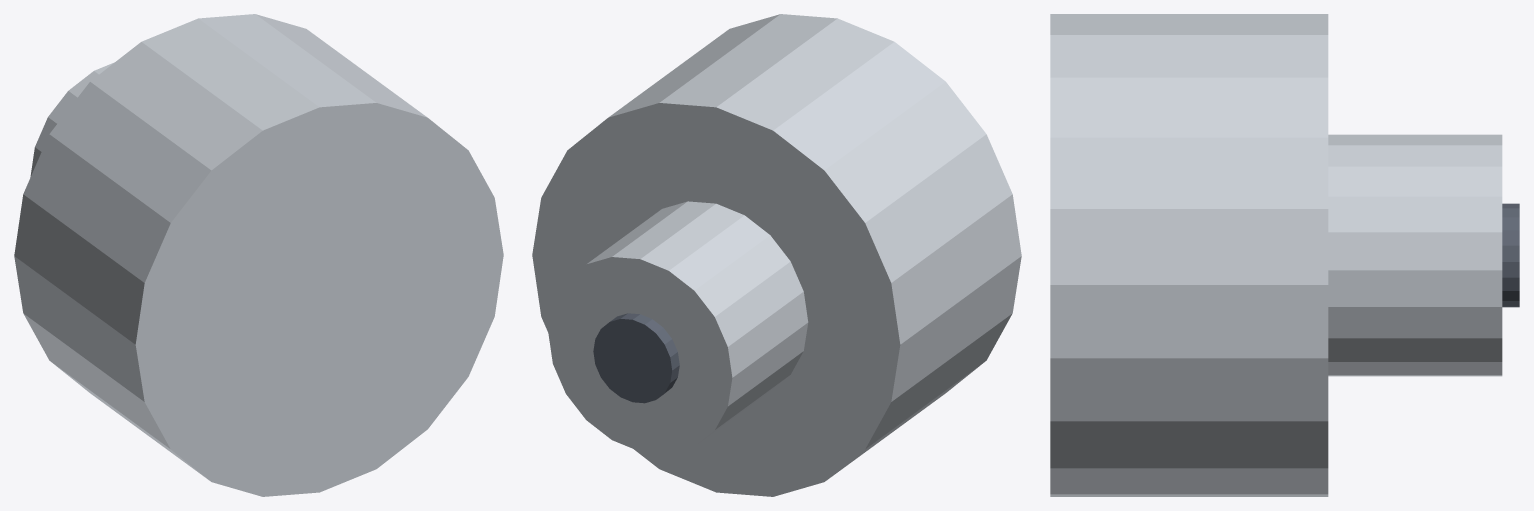
The model's file is oband-adapter-81000fa.glb.
The picture shows the model from 3 angles, left to right: view 1: azimuth 30°, elevation 25°; view 2: azimuth 150°, elevation 25°; view 3: azimuth 270°, elevation 25°; orthographic projection. The views are drawn at different scales.
Parts seen in each view (by area): view 1: silver adapter body, silver FC coupling sleeve; view 2: silver adapter body, silver FC coupling sleeve, black optical aperture; view 3: silver adapter body, silver FC coupling sleeve, black optical aperture.
Part boxes in pixels (x1,y1,x2,y2): silver adapter body: (14,14,503,496); silver FC coupling sleeve: (30,62,114,177); silver adapter body: (532,14,1021,496); silver FC coupling sleeve: (548,201,808,453); black optical aperture: (593,313,679,403); silver adapter body: (1050,14,1328,496); silver FC coupling sleeve: (1328,134,1502,376); black optical aperture: (1502,203,1519,307).
Size of the model in its own units: 0.028 by 0.028 by 0.027.
